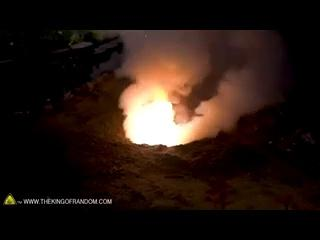Fire: (134, 96, 183, 144)
